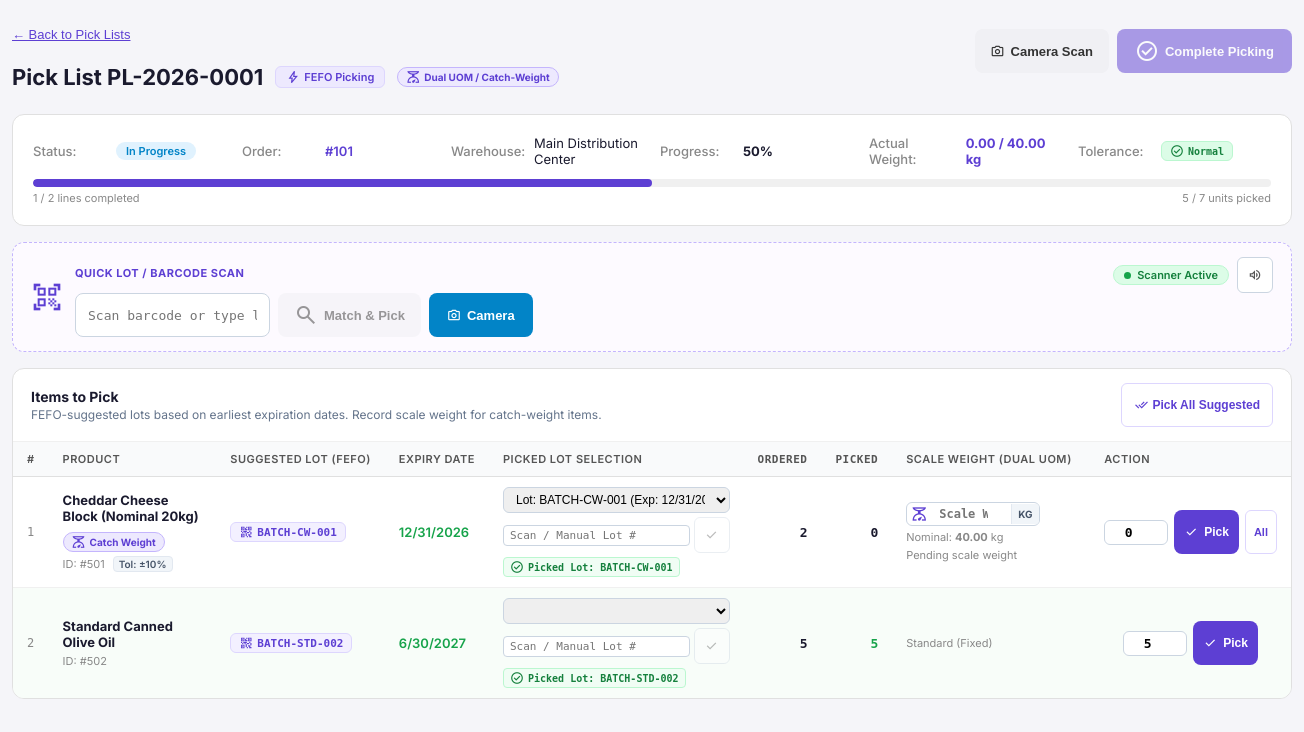
Test: PickListDetailView (Catch-Weight & Dual UOM) › supports picker lot selection override from available batches and manual lot scan
Select "Lot: BATCH-ALT-999 (Exp: 10/15/2026, Stock: 50)" in the dropdown with class "lot-select" in the row of "Cheddar Cheese Block (Nominal 20kg)": (616, 500) [503, 487, 730, 513]
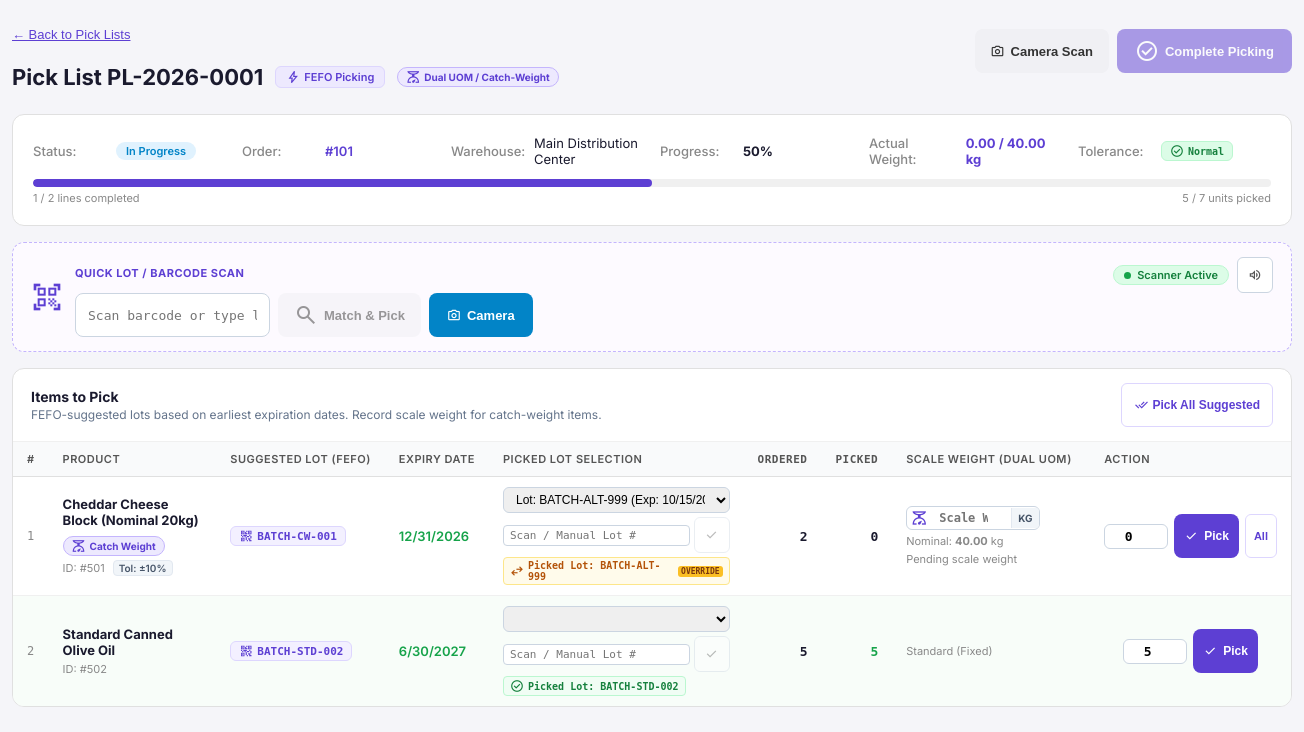
Expected: the text "Picked Lot: BATCH-ALT-999" is shown, [528, 560, 660, 582]
Expected: the text "OVERRIDE" is shown, [678, 566, 723, 576]
# Test manual lot scan override input
In the field with class "batch-input" in the row of "Catch Weight": (596, 535) [503, 524, 690, 546], type "BATCH-SCAN-777"
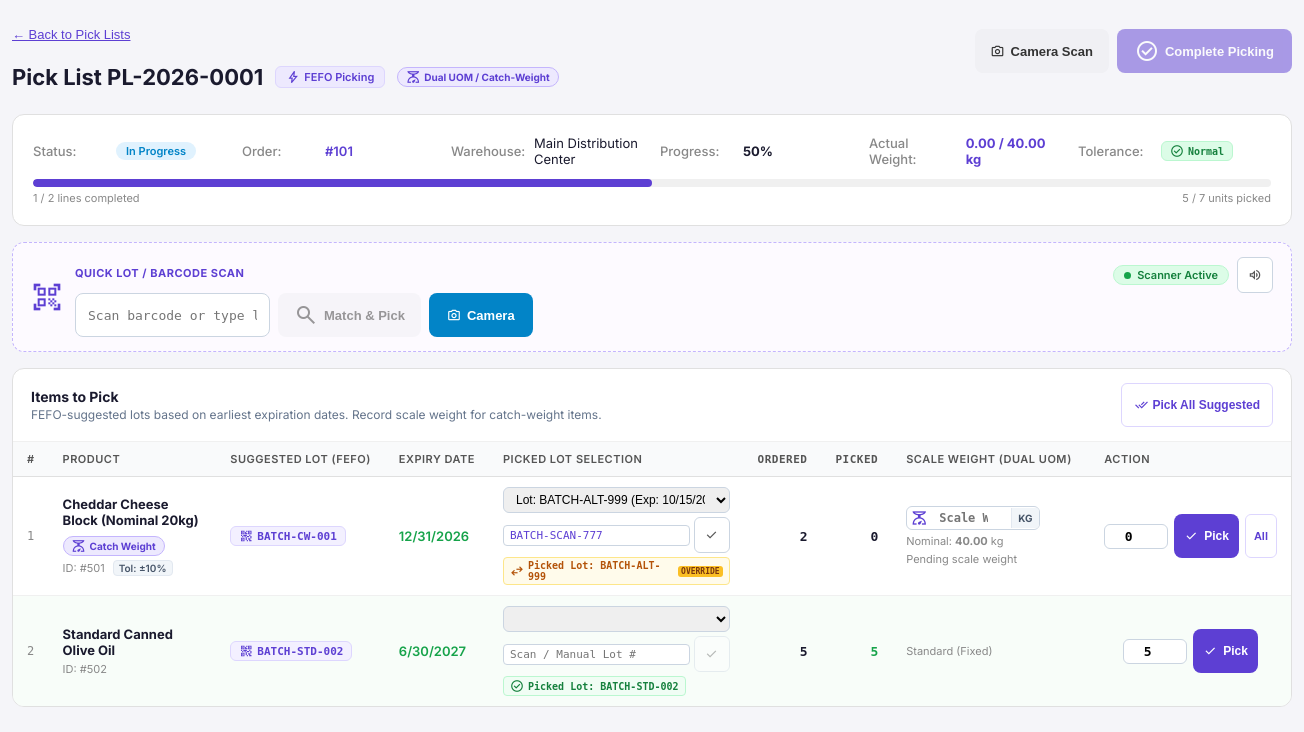
Click the button with class "btn-icon" in the row of "Catch Weight": (712, 535) [694, 517, 730, 553]
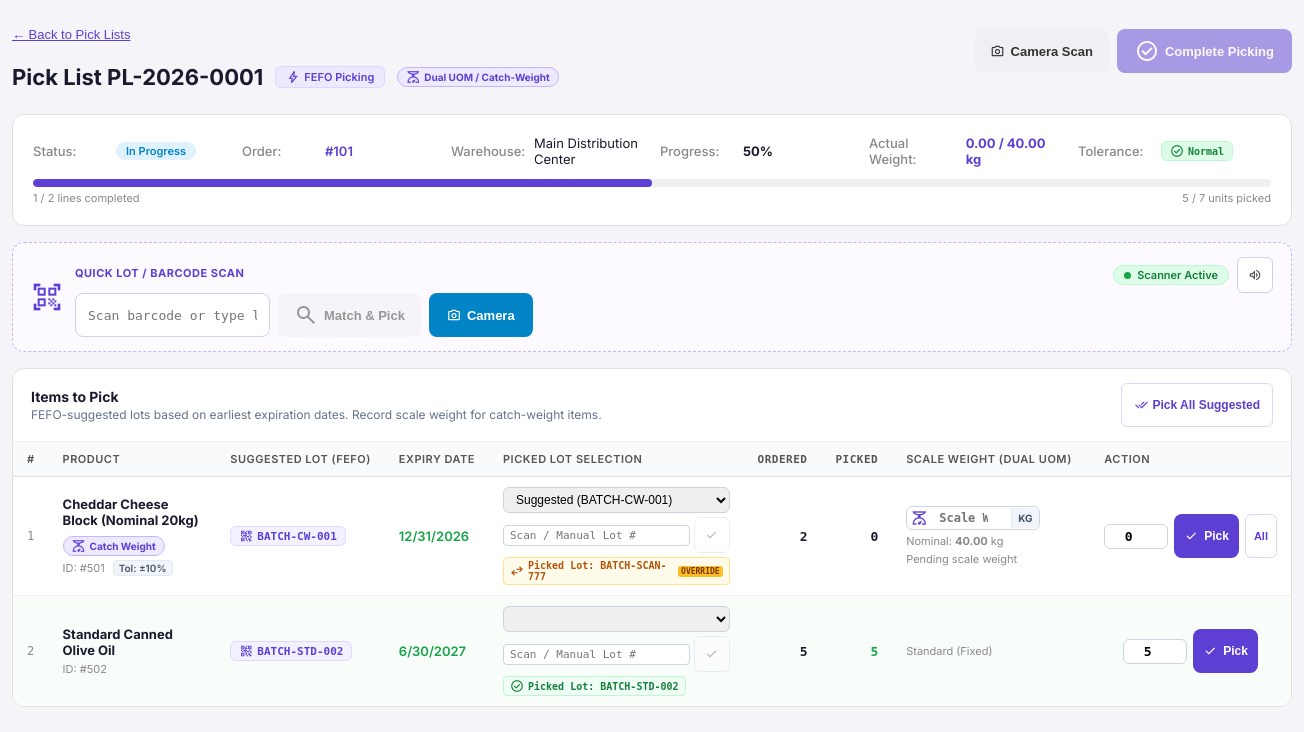
Expected: the text "Picked Lot: BATCH-SCAN-777" is shown, [528, 560, 666, 582]
